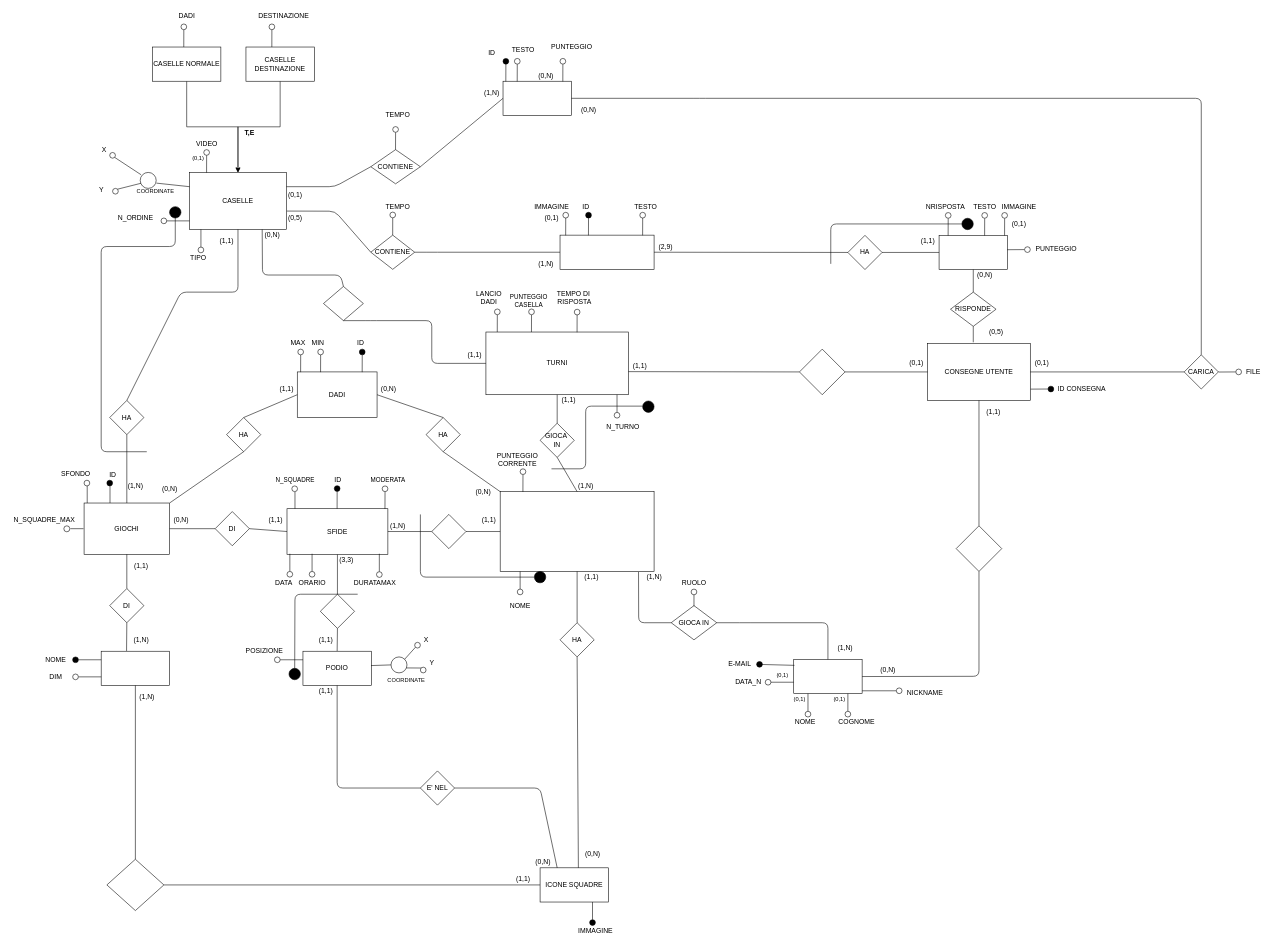
The diagram is 1274 pixels wide and 947 high, and some of its shapes have lost their labels. Here are the shapes that lost their labels. From the top down, the centre of each, then its label:
At point (536, 98): "TASK".
At point (606, 252): "QUIZ".
At point (973, 252): "RISPOSTE QUIZ".
At point (343, 303): "GIOCA SULLA".
At point (822, 372): "SCELTA".
At point (448, 531): "GIOCA".
At point (577, 531): "SQUADRE".
At point (979, 548): "DA".
At point (337, 611): "DELLA".
At point (135, 668): "SET ICONE".
At point (827, 676): "UTENTI".
At point (135, 885): "APPARTIENE".
